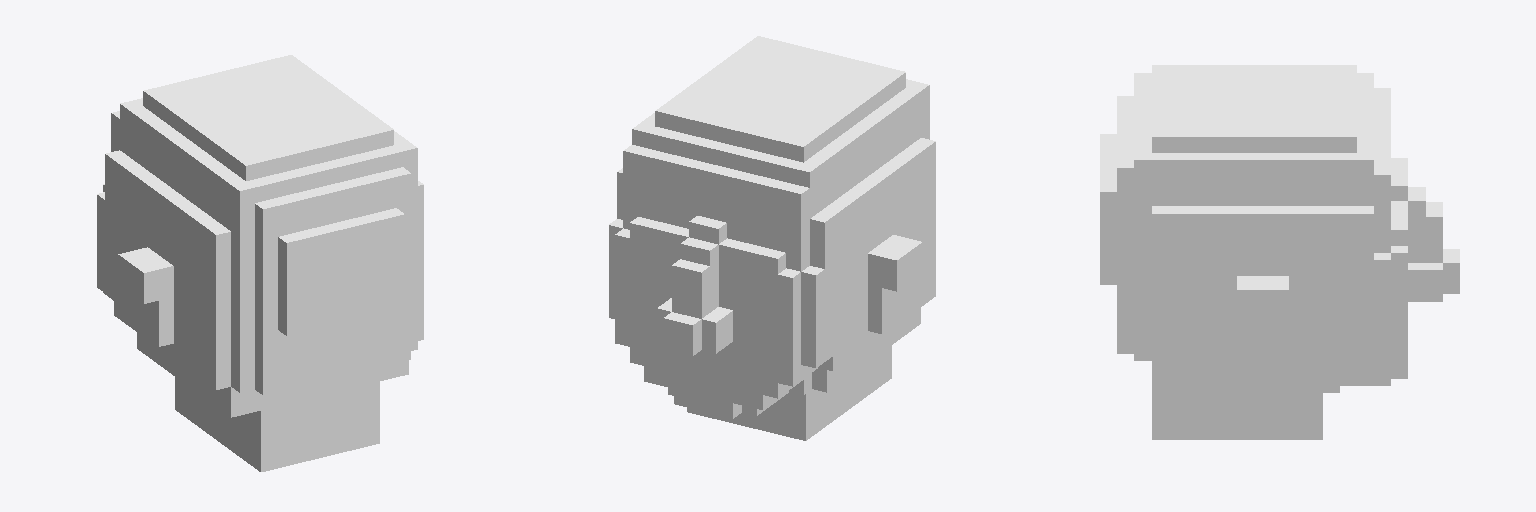
File: Character-10-Head.obj
3 renders of one model, left to right at view 1: azimuth 30°, elevation 25°; view 2: azimuth 150°, elevation 25°; view 3: azimuth 270°, elevation 25°, orthographic.
Visible parts, largest first — view 1: Head; view 2: Head; view 3: Head.
Part boxes in pixels (bbox=[...]): Head: bbox=[97, 55, 423, 471]; Head: bbox=[609, 36, 935, 440]; Head: bbox=[1100, 65, 1459, 439].
Size of the model in its own units: 1.8 by 2 by 2.1.